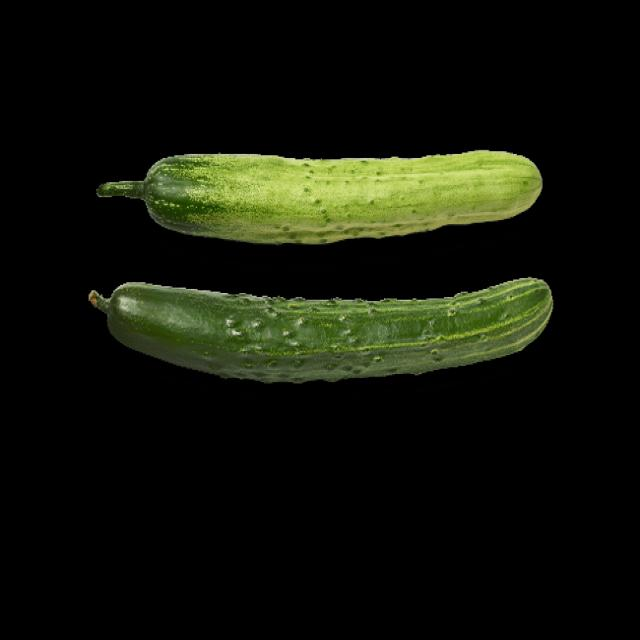cucumber: (58, 124, 594, 416), (74, 259, 580, 387), (75, 148, 561, 254)
